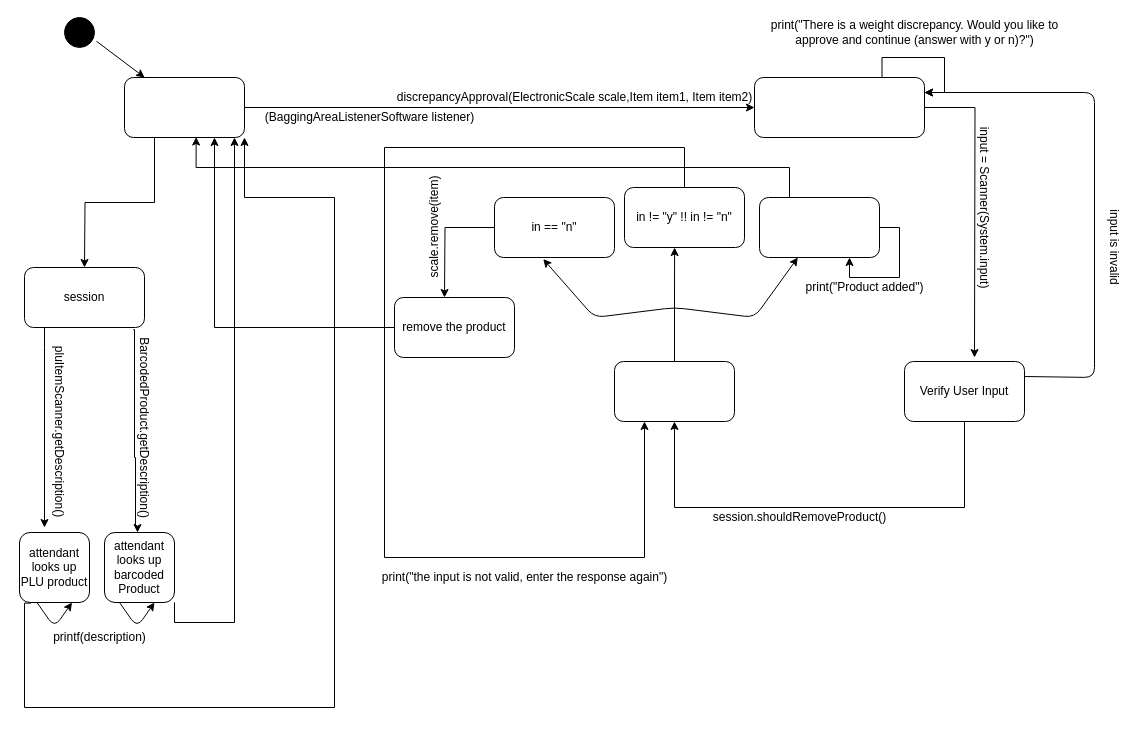
Some shapes in this 1142 by 733 pixel diagram are drawn without their labels. The shapes that lost their labels are listed below. From the top down, each one's centre as x and y in pixels, then its label:
[184,107]: Attendant On Duty
[839,107]: Wait for discrepancy approval
[819,227]: in == "y"
[674,391]: take the input from the user
